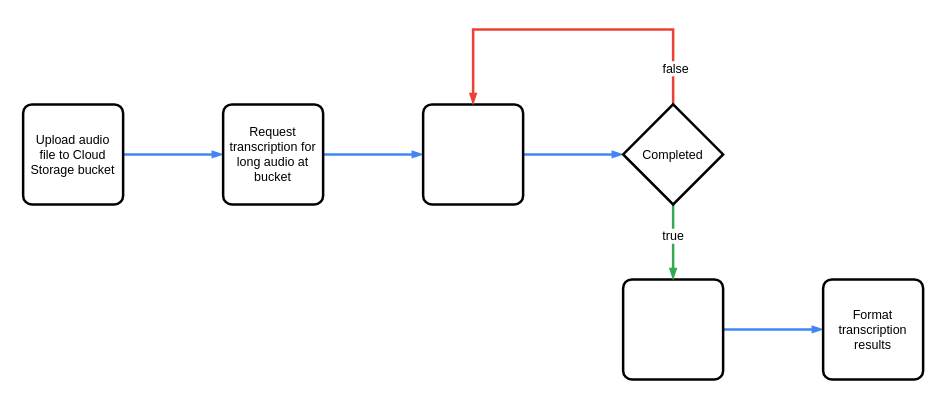
This 945x401 diagram has some shape labels left out. The box of each missing label's shape, as (x1, y1, x2, y2) in pixels:
Check long operation status: (421, 102, 524, 205)
Download transcription results: (621, 278, 724, 380)
